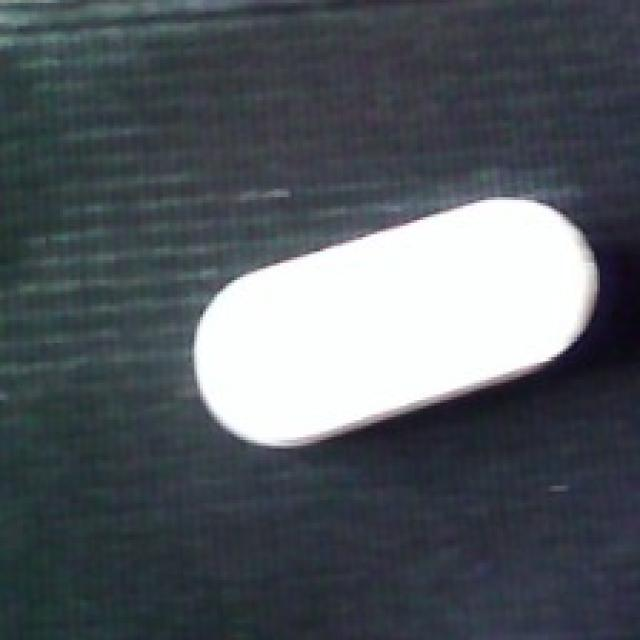no-defect: (191, 192, 603, 449)
